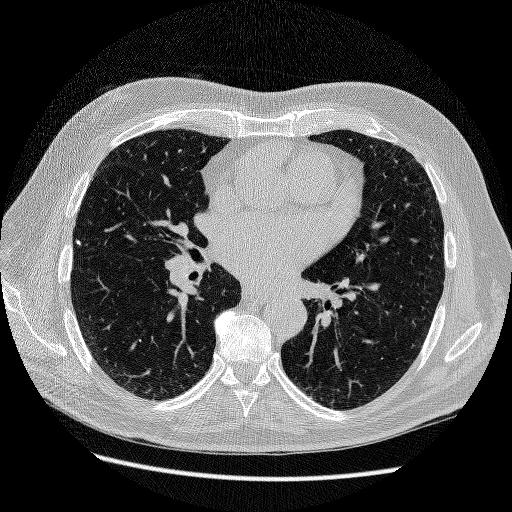nodule: (74, 238, 83, 247)
